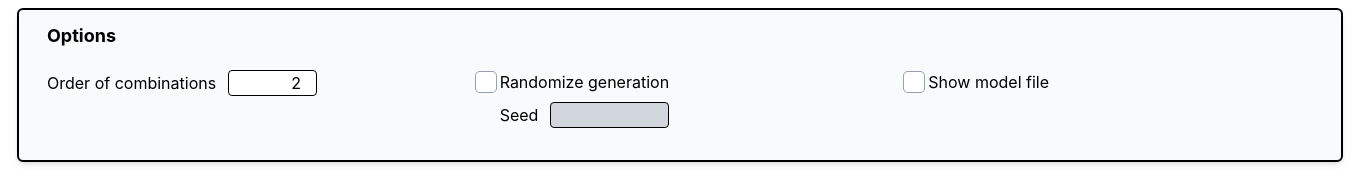
Test case: OptionsSection › Should disable seed input when randomize generation is unchecked
What coordinates should you click on to do the following:
click the checkbox named "Randomize generation" next to "Randomize generation"
I would click on:
 (486, 82)
Its box is [476,72,496,92].
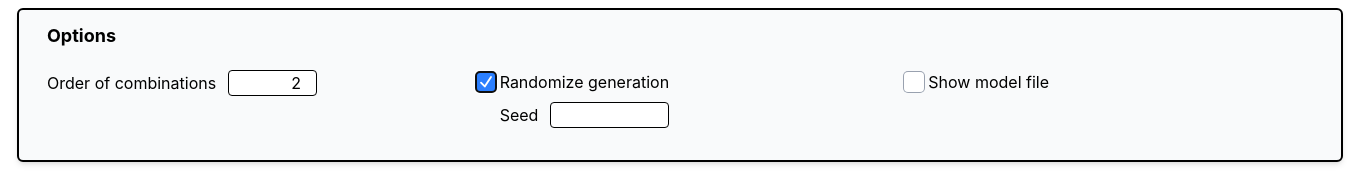
Expected: the number field labelled "Seed" is enabled, [550,102,669,128]
# uncheck randomize generation
What coordinates should you click on to do the following:
click the checkbox named "Randomize generation" next to "Randomize generation"
I would click on:
 (486, 82)
Its box is [476,72,496,92].
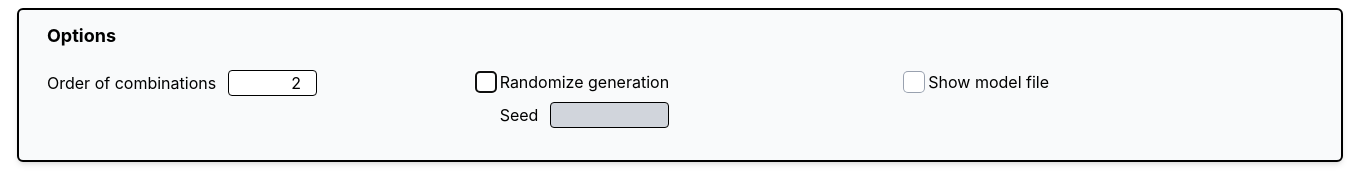
Expected: the number field labelled "Seed" is disabled, [550,102,669,128]
